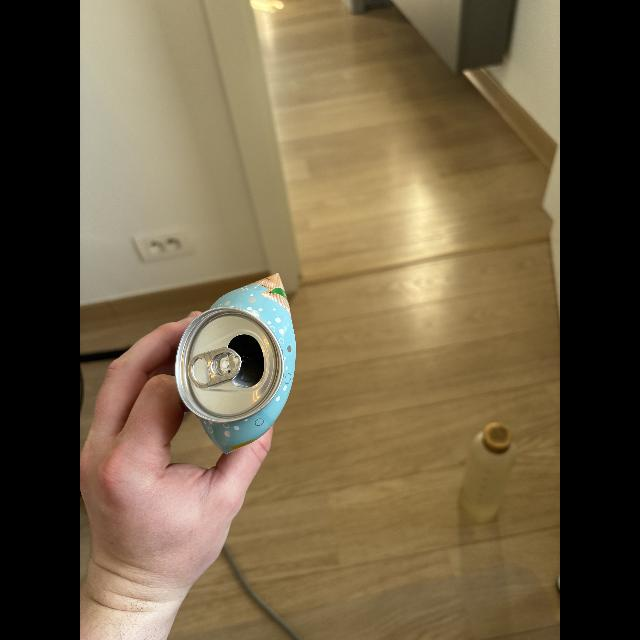Metal: (176, 270, 300, 460)
Plastic: (456, 419, 516, 526)
